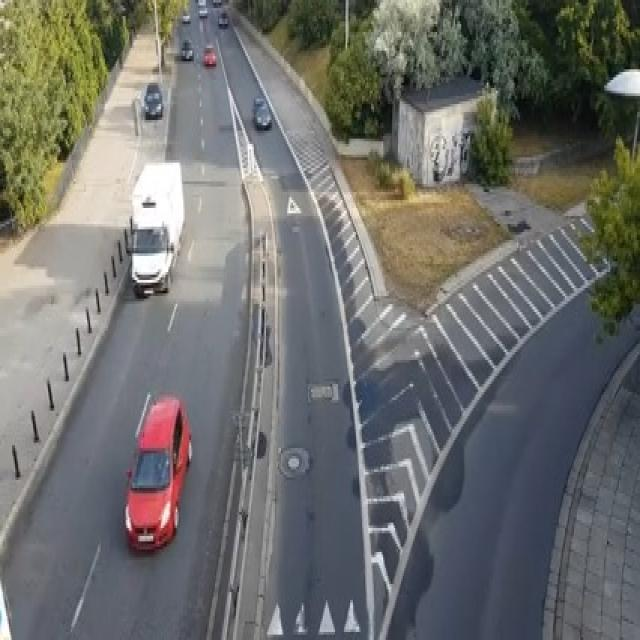bus: (128, 157, 184, 296)
car: (123, 392, 192, 552), (141, 83, 164, 117), (252, 96, 270, 128), (203, 43, 216, 64), (180, 37, 192, 59), (218, 10, 228, 27), (198, 5, 208, 16), (182, 11, 189, 21), (212, 0, 221, 5), (197, 0, 206, 5)
